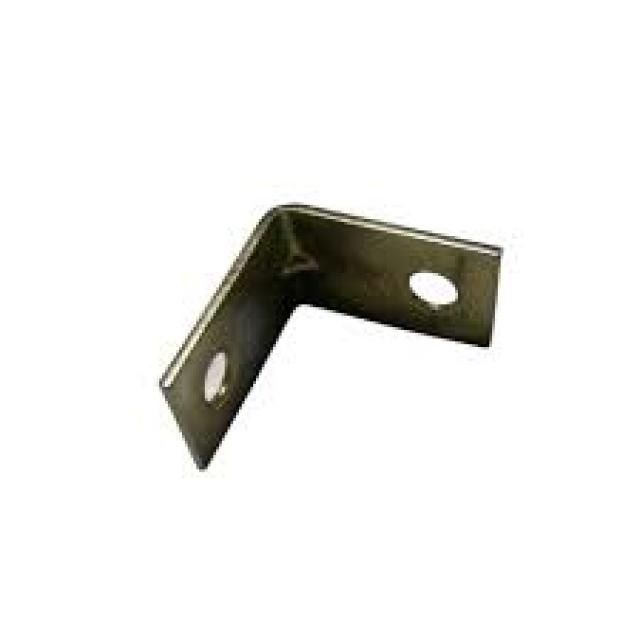holes: (407, 270, 458, 310), (199, 347, 230, 407)
